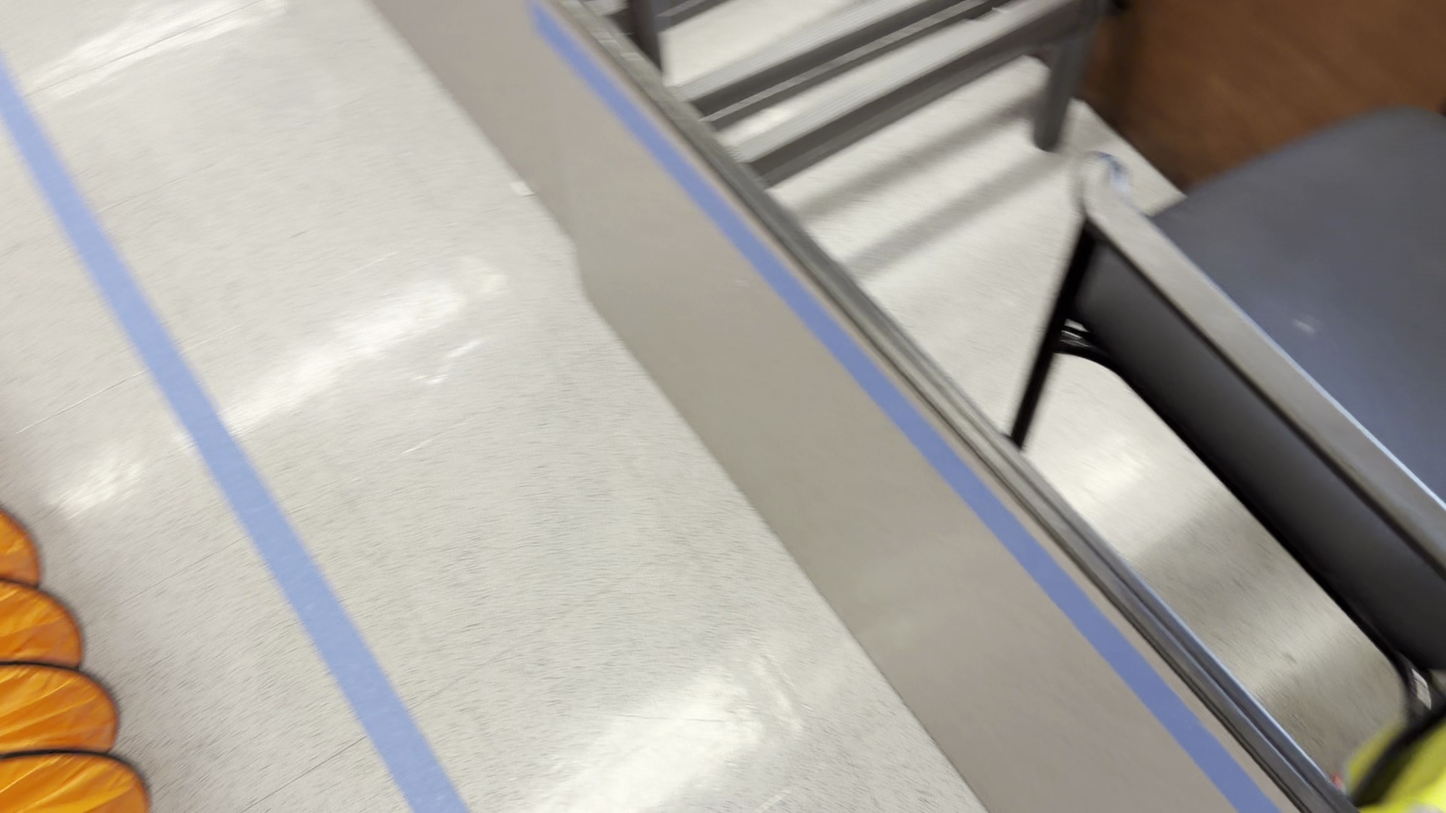racecar: (30, 0, 1145, 813)
